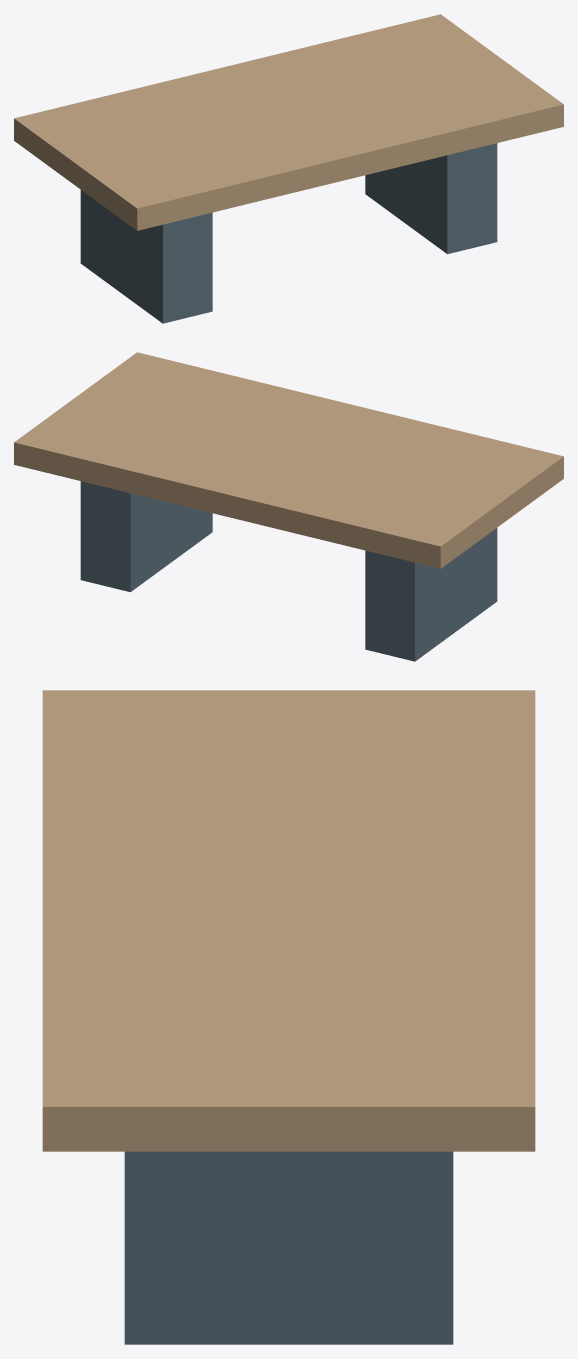
The model's file is voxel-city-districts-meeting-table-e0864c7d__24891.glb.
3 views of the same model, one above another, from view 1: azimuth 30°, elevation 25°; view 2: azimuth 150°, elevation 25°; view 3: azimuth 270°, elevation 25° (orthographic). The views are drawn at different scales.
Visible parts, largest first — view 1: meeting-table-wood, meeting-table-dark; view 2: meeting-table-wood, meeting-table-dark; view 3: meeting-table-wood, meeting-table-dark.
Boxes of the visible parts, x1=… form: meeting-table-wood: x1=14, y1=14, x2=563, y2=230; meeting-table-dark: x1=80, y1=143, x2=497, y2=323; meeting-table-wood: x1=14, y1=352, x2=563, y2=568; meeting-table-dark: x1=80, y1=481, x2=497, y2=661; meeting-table-wood: x1=42, y1=690, x2=535, y2=1151; meeting-table-dark: x1=124, y1=1151, x2=453, y2=1344.
Bounding box in the file's own units: 3 × 0.95 × 1.5.
